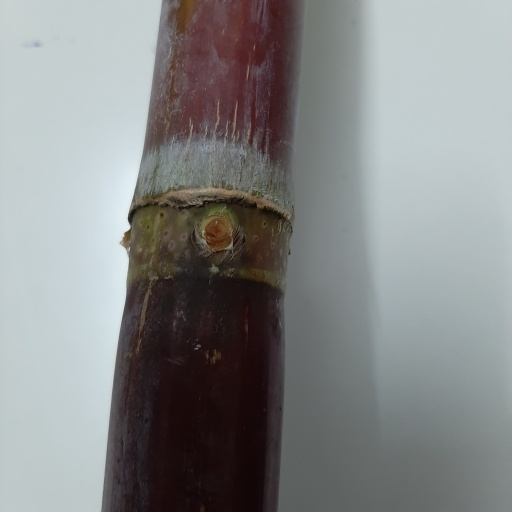Damage_Bud: (202, 215, 232, 252)
